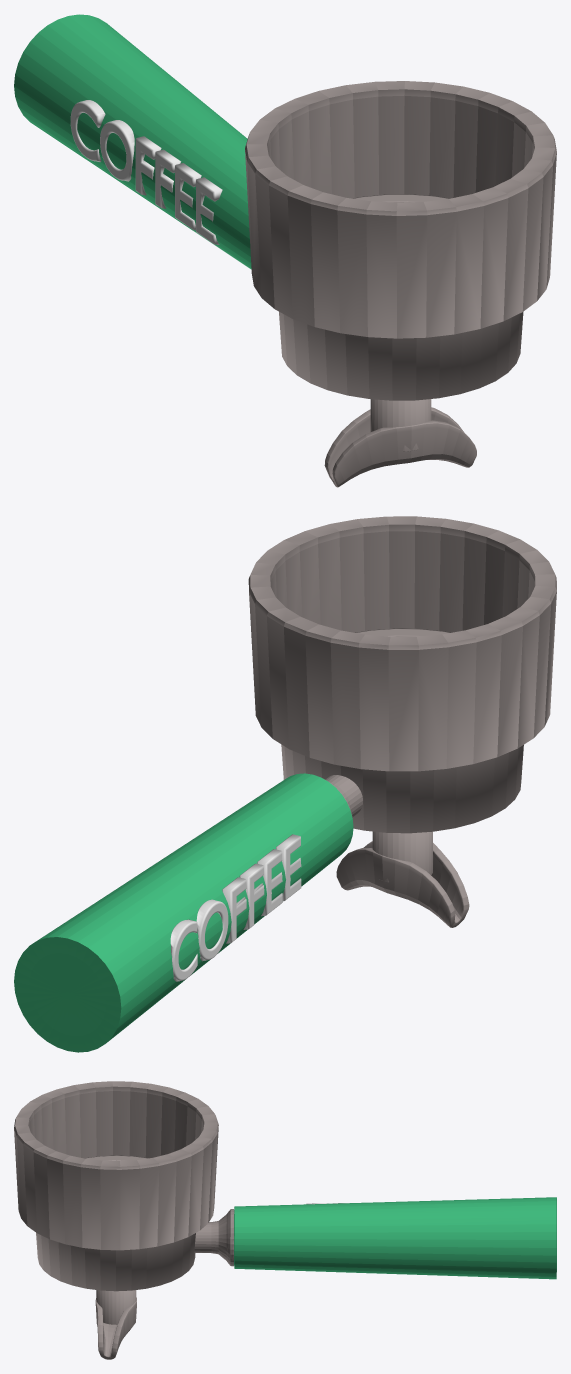
The model's file is Portafilter.fbx.
3 views of the same model, one above another, from view 1: azimuth 30°, elevation 25°; view 2: azimuth 150°, elevation 25°; view 3: azimuth 270°, elevation 25° (orthographic). The views are drawn at different scales.
Parts seen in each view (by area): view 1: 11639_espresso_machine_v1_L2.001, Text.009; view 2: 11639_espresso_machine_v1_L2.001, Text.009; view 3: 11639_espresso_machine_v1_L2.001.
Part boxes in pixels (left/top/right/bottom): 11639_espresso_machine_v1_L2.001: left=14, top=14, right=556, bottom=487; Text.009: left=70, top=100, right=222, bottom=244; 11639_espresso_machine_v1_L2.001: left=14, top=516, right=556, bottom=1052; Text.009: left=170, top=834, right=301, bottom=981; 11639_espresso_machine_v1_L2.001: left=14, top=1081, right=556, bottom=1359.
Size of the model in its own units: 7.84 by 9.16 by 20.78.
